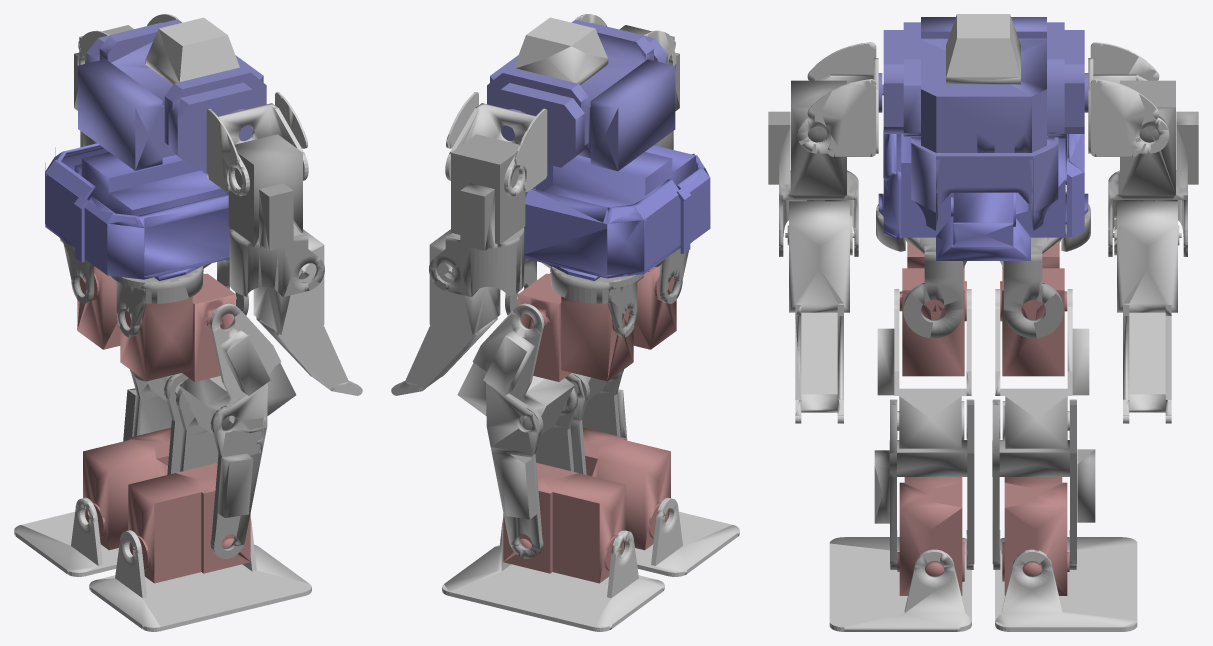
The picture shows the model from 3 angles, left to right: view 1: azimuth 30°, elevation 25°; view 2: azimuth 150°, elevation 25°; view 3: azimuth 270°, elevation 25°; orthographic projection. The views are drawn at different scales.
Visible parts, largest first — view 1: WAIST_LINK, CHEST_P_LINK, R_SHOULDER_R_LINK, R_ANKLE_R_LINK, R_ANKLE_P_LINK, R_KNEE_P_LINK, R_HIP_R_LINK, R_HIP_P_LINK, R_ELBOW_P_LINK, L_ANKLE_P_LINK, R_SHOULDER_P_LINK, L_ANKLE_R_LINK (+7 smaller); view 2: WAIST_LINK, CHEST_P_LINK, L_SHOULDER_R_LINK, L_ANKLE_R_LINK, L_ANKLE_P_LINK, L_KNEE_P_LINK, L_HIP_R_LINK, L_HIP_P_LINK, L_ELBOW_P_LINK, R_ANKLE_P_LINK, L_SHOULDER_P_LINK, R_ANKLE_R_LINK (+7 smaller); view 3: CHEST_P_LINK, WAIST_LINK, R_ELBOW_P_LINK, L_ELBOW_P_LINK, R_ANKLE_R_LINK, L_ANKLE_R_LINK, R_SHOULDER_R_LINK, L_SHOULDER_R_LINK, L_SHOULDER_P_LINK, R_SHOULDER_P_LINK, R_HIP_P_LINK, L_HIP_P_LINK (+9 smaller).
Part boxes in pixels (bbox=[...]): WAIST_LINK: bbox=[45, 143, 229, 280]; CHEST_P_LINK: bbox=[78, 19, 266, 194]; R_SHOULDER_R_LINK: bbox=[228, 134, 324, 297]; R_ANKLE_R_LINK: bbox=[89, 518, 311, 631]; R_ANKLE_P_LINK: bbox=[128, 463, 250, 583]; R_KNEE_P_LINK: bbox=[176, 382, 267, 558]; R_HIP_R_LINK: bbox=[120, 273, 235, 381]; R_HIP_P_LINK: bbox=[179, 303, 296, 435]; R_ELBOW_P_LINK: bbox=[253, 229, 362, 395]; L_ANKLE_P_LINK: bbox=[83, 427, 170, 550]; R_SHOULDER_P_LINK: bbox=[206, 92, 308, 196]; L_ANKLE_R_LINK: bbox=[14, 497, 118, 576]; WAIST_LINK: bbox=[524, 145, 710, 280]; CHEST_P_LINK: bbox=[487, 19, 675, 188]; L_SHOULDER_R_LINK: bbox=[429, 134, 525, 296]; L_ANKLE_R_LINK: bbox=[442, 518, 664, 631]; L_ANKLE_P_LINK: bbox=[503, 463, 625, 583]; L_KNEE_P_LINK: bbox=[486, 382, 577, 558]; L_HIP_R_LINK: bbox=[518, 273, 633, 381]; L_HIP_P_LINK: bbox=[457, 303, 574, 435]; L_ELBOW_P_LINK: bbox=[391, 229, 500, 395]; R_ANKLE_P_LINK: bbox=[583, 427, 670, 550]; L_SHOULDER_P_LINK: bbox=[445, 92, 547, 196]; R_ANKLE_R_LINK: bbox=[635, 497, 739, 576]; CHEST_P_LINK: bbox=[878, 17, 1088, 230]; WAIST_LINK: bbox=[878, 130, 1088, 260]; R_ELBOW_P_LINK: bbox=[785, 201, 854, 423]; L_ELBOW_P_LINK: bbox=[1112, 201, 1181, 423]; R_ANKLE_R_LINK: bbox=[829, 537, 971, 631]; L_ANKLE_R_LINK: bbox=[995, 537, 1137, 631]; R_SHOULDER_R_LINK: bbox=[768, 80, 858, 256]; L_SHOULDER_R_LINK: bbox=[1108, 80, 1198, 256]; L_SHOULDER_P_LINK: bbox=[1088, 42, 1169, 156]; R_SHOULDER_P_LINK: bbox=[797, 42, 878, 156]; R_HIP_P_LINK: bbox=[877, 289, 971, 448]; L_HIP_P_LINK: bbox=[995, 289, 1089, 448].
Bounding box in the file's own units: 0.105 × 0.1726 × 0.2552.
